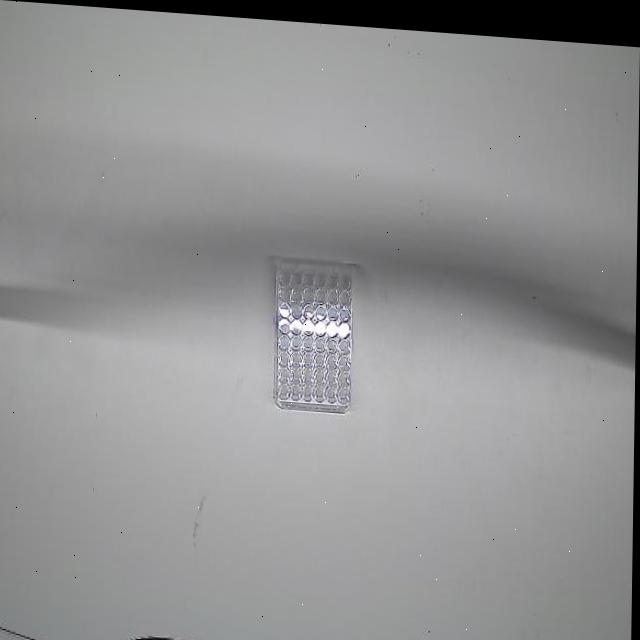Cell Culture Plate - 24: (272, 252, 354, 411)
